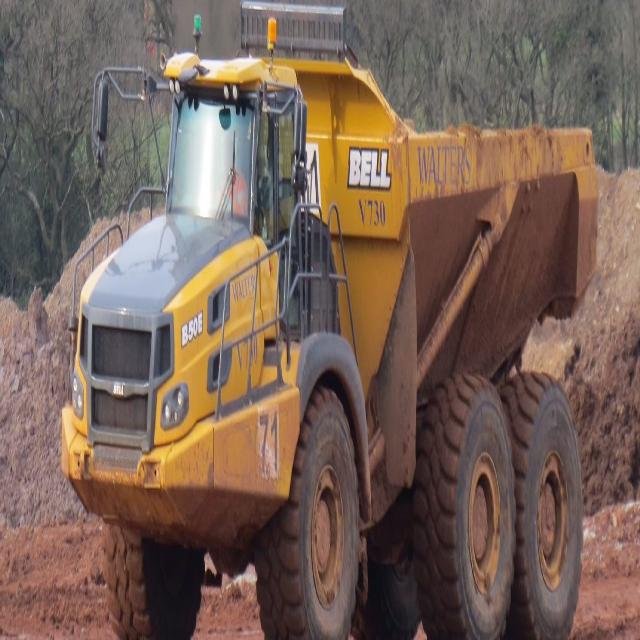dump_truck: (57, 33, 598, 639)
